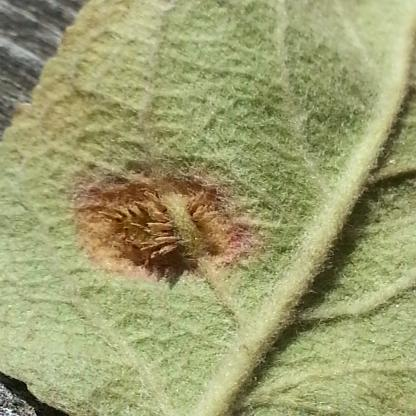apple rust leaf: (29, 19, 416, 301)
